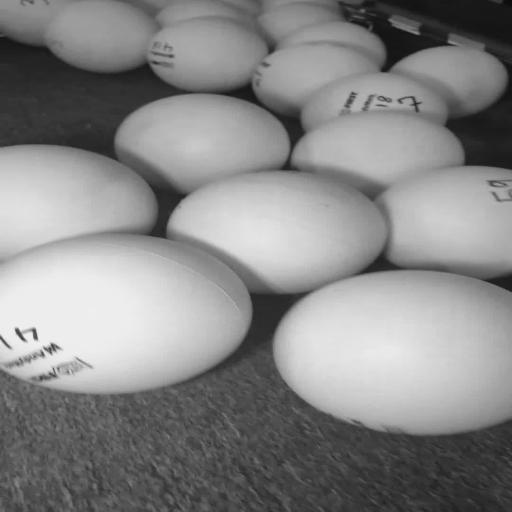fuel: (0, 234, 252, 394), (273, 270, 511, 435), (167, 171, 387, 294), (0, 144, 158, 262), (114, 94, 291, 194), (375, 166, 511, 280), (291, 111, 465, 198), (252, 42, 380, 118), (147, 17, 268, 93), (301, 72, 448, 131), (390, 46, 508, 118), (277, 21, 387, 68), (258, 0, 345, 46)
